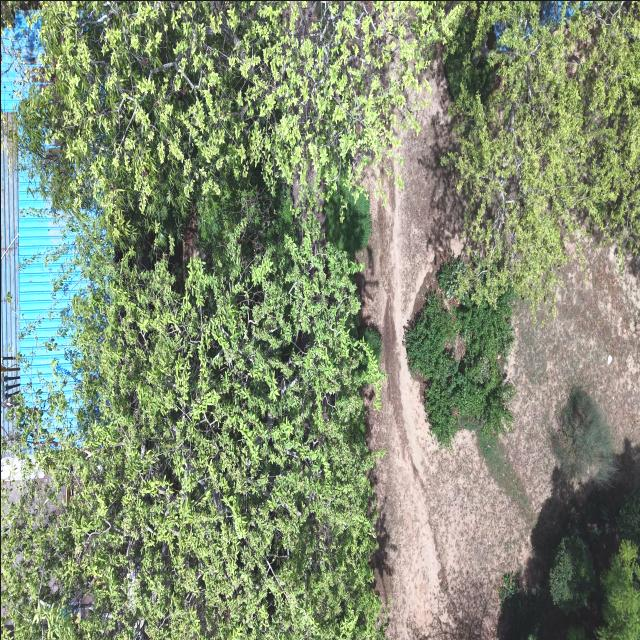DRY_AREA: (358, 66, 639, 639), (361, 68, 525, 639), (357, 86, 457, 639), (500, 244, 639, 590), (501, 244, 639, 509)
ROOFTOP_BUILDING: (1, 12, 76, 402), (538, 1, 575, 26)
VEGETATION_TREE: (1, 1, 639, 639), (1, 1, 457, 639), (21, 1, 639, 305), (1, 217, 381, 639), (19, 1, 458, 253), (404, 1, 639, 447), (445, 1, 639, 308), (497, 470, 639, 639), (403, 260, 513, 445), (403, 291, 458, 444), (456, 293, 513, 432), (597, 489, 639, 639), (552, 388, 614, 483), (443, 1, 495, 103), (476, 430, 533, 522), (597, 540, 639, 639), (325, 181, 371, 257), (549, 535, 593, 612), (497, 572, 539, 639), (617, 488, 639, 547), (436, 258, 466, 301), (1, 1, 38, 27), (359, 327, 381, 362), (498, 573, 518, 603), (566, 627, 585, 639)
